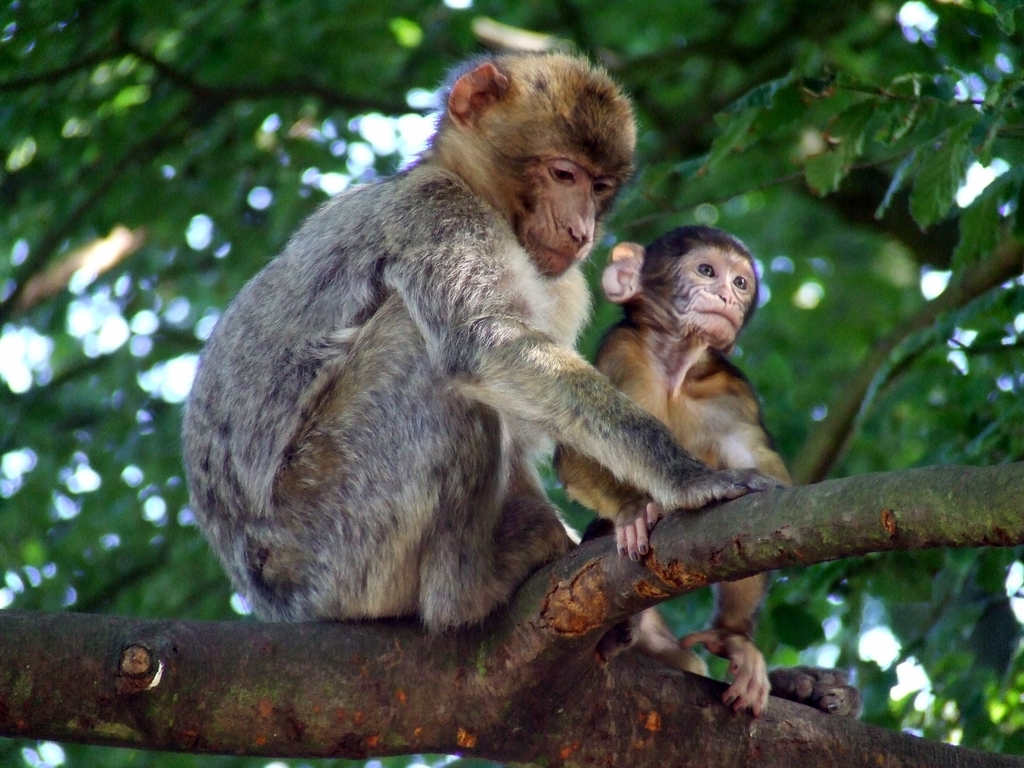face: (658, 243, 758, 348)
